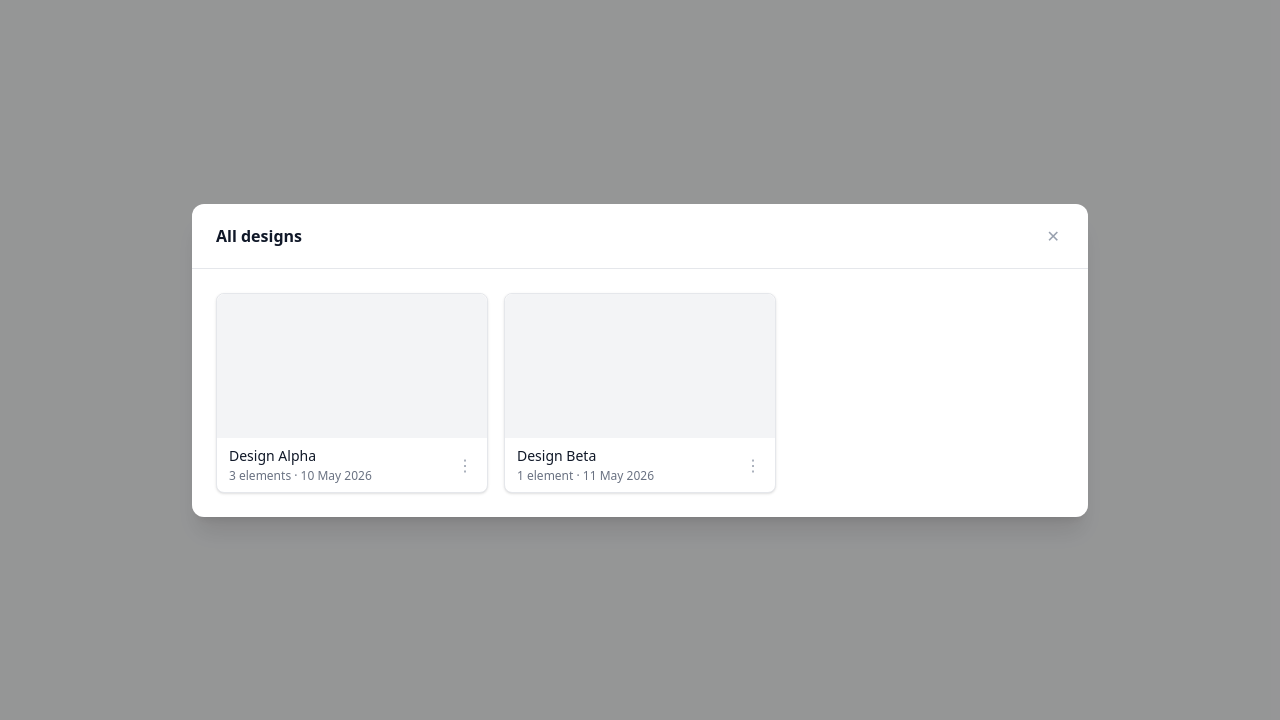
AC15 — Cancel in rename modal › closes the rename modal when Cancel is clicked
The width and height of the screenshot is (1280, 720).
Click the button named "project options" at [465, 464], box [455,446,475,484]
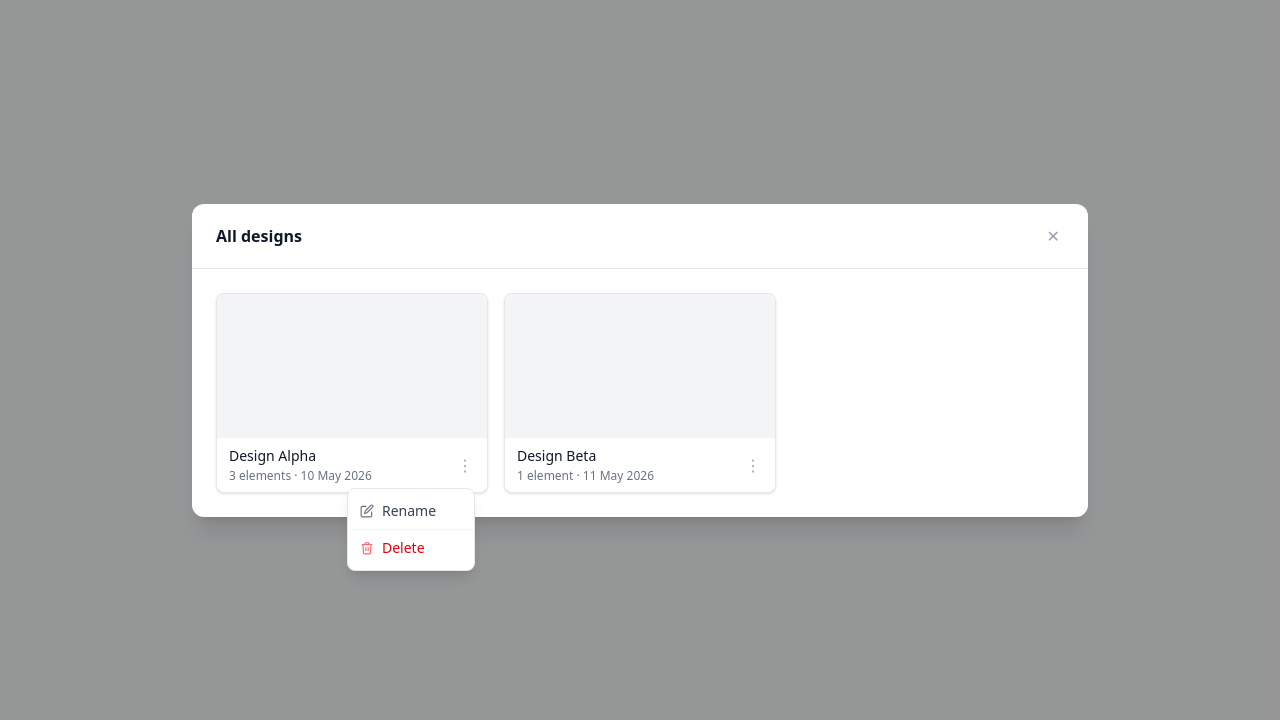
Click the button "Rename" at [411, 510], box [348,492,474,528]
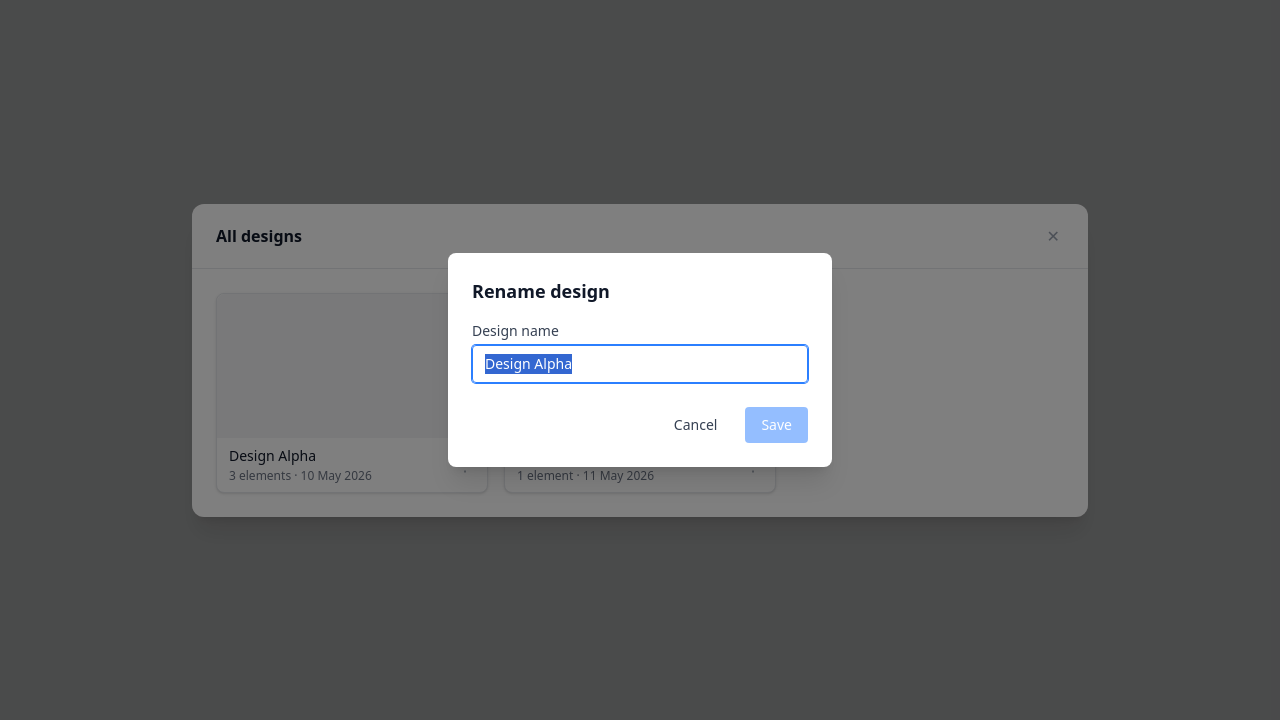
Click the button "Cancel" at [696, 425], box [658,407,733,443]
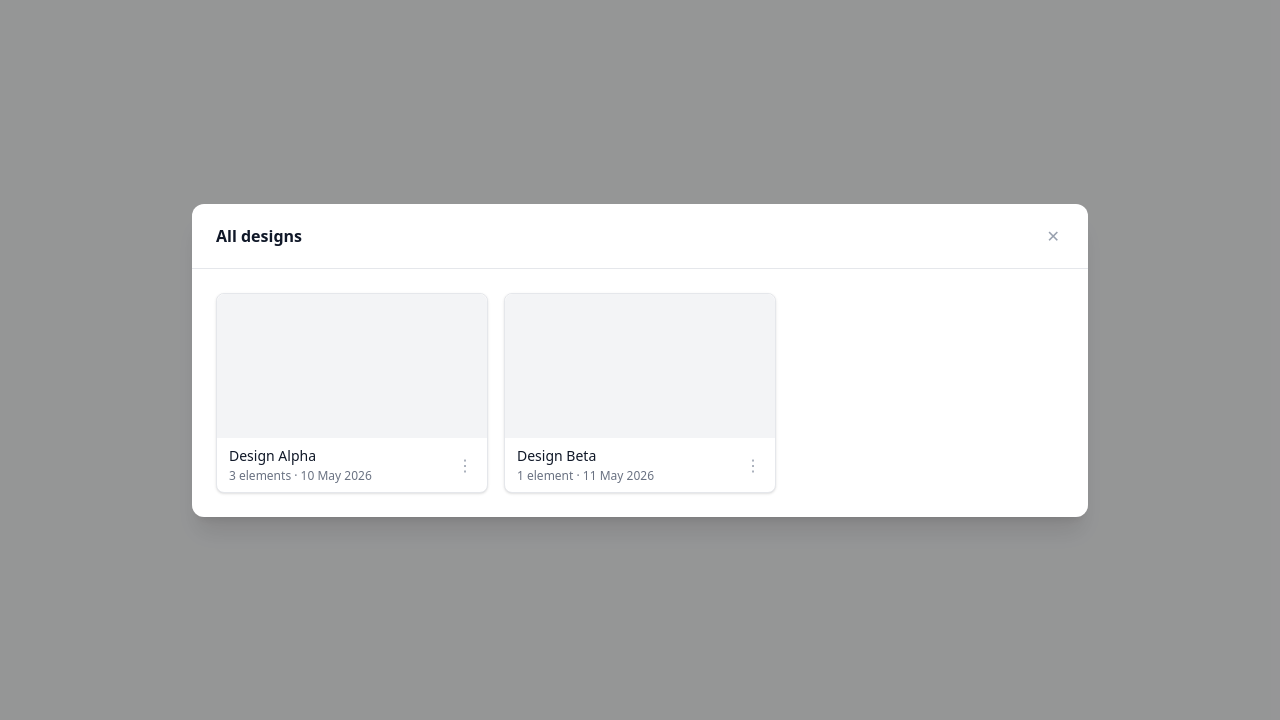
Expected: the heading "Rename design" is gone
